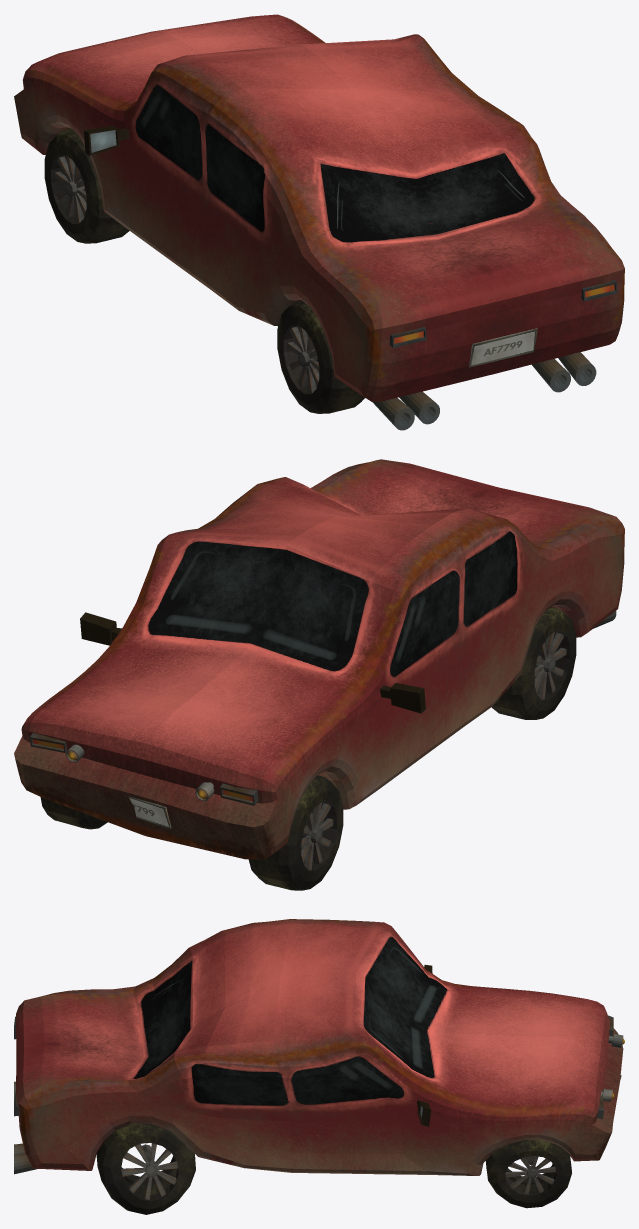
The model's file is Red Broken car.fbx.
3 renders of one model, top to bottom at view 1: azimuth 30°, elevation 25°; view 2: azimuth 150°, elevation 25°; view 3: azimuth 270°, elevation 25°, orthographic. The views are drawn at different scales.
Visible parts, largest first — view 1: Cylinder.064; view 2: Cylinder.064; view 3: Cylinder.064.
Boxes of the visible parts, box(x1,y1,x2,y2) form: Cylinder.064: box(14, 14, 624, 430); Cylinder.064: box(14, 459, 624, 890); Cylinder.064: box(14, 919, 624, 1214).
Bounding box in the file's own units: 180 × 127 × 340.
